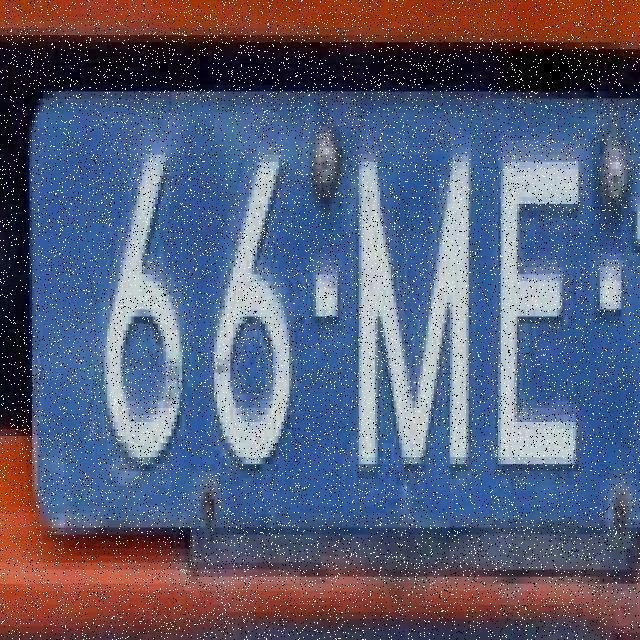license-plate: (16, 35, 640, 634)
